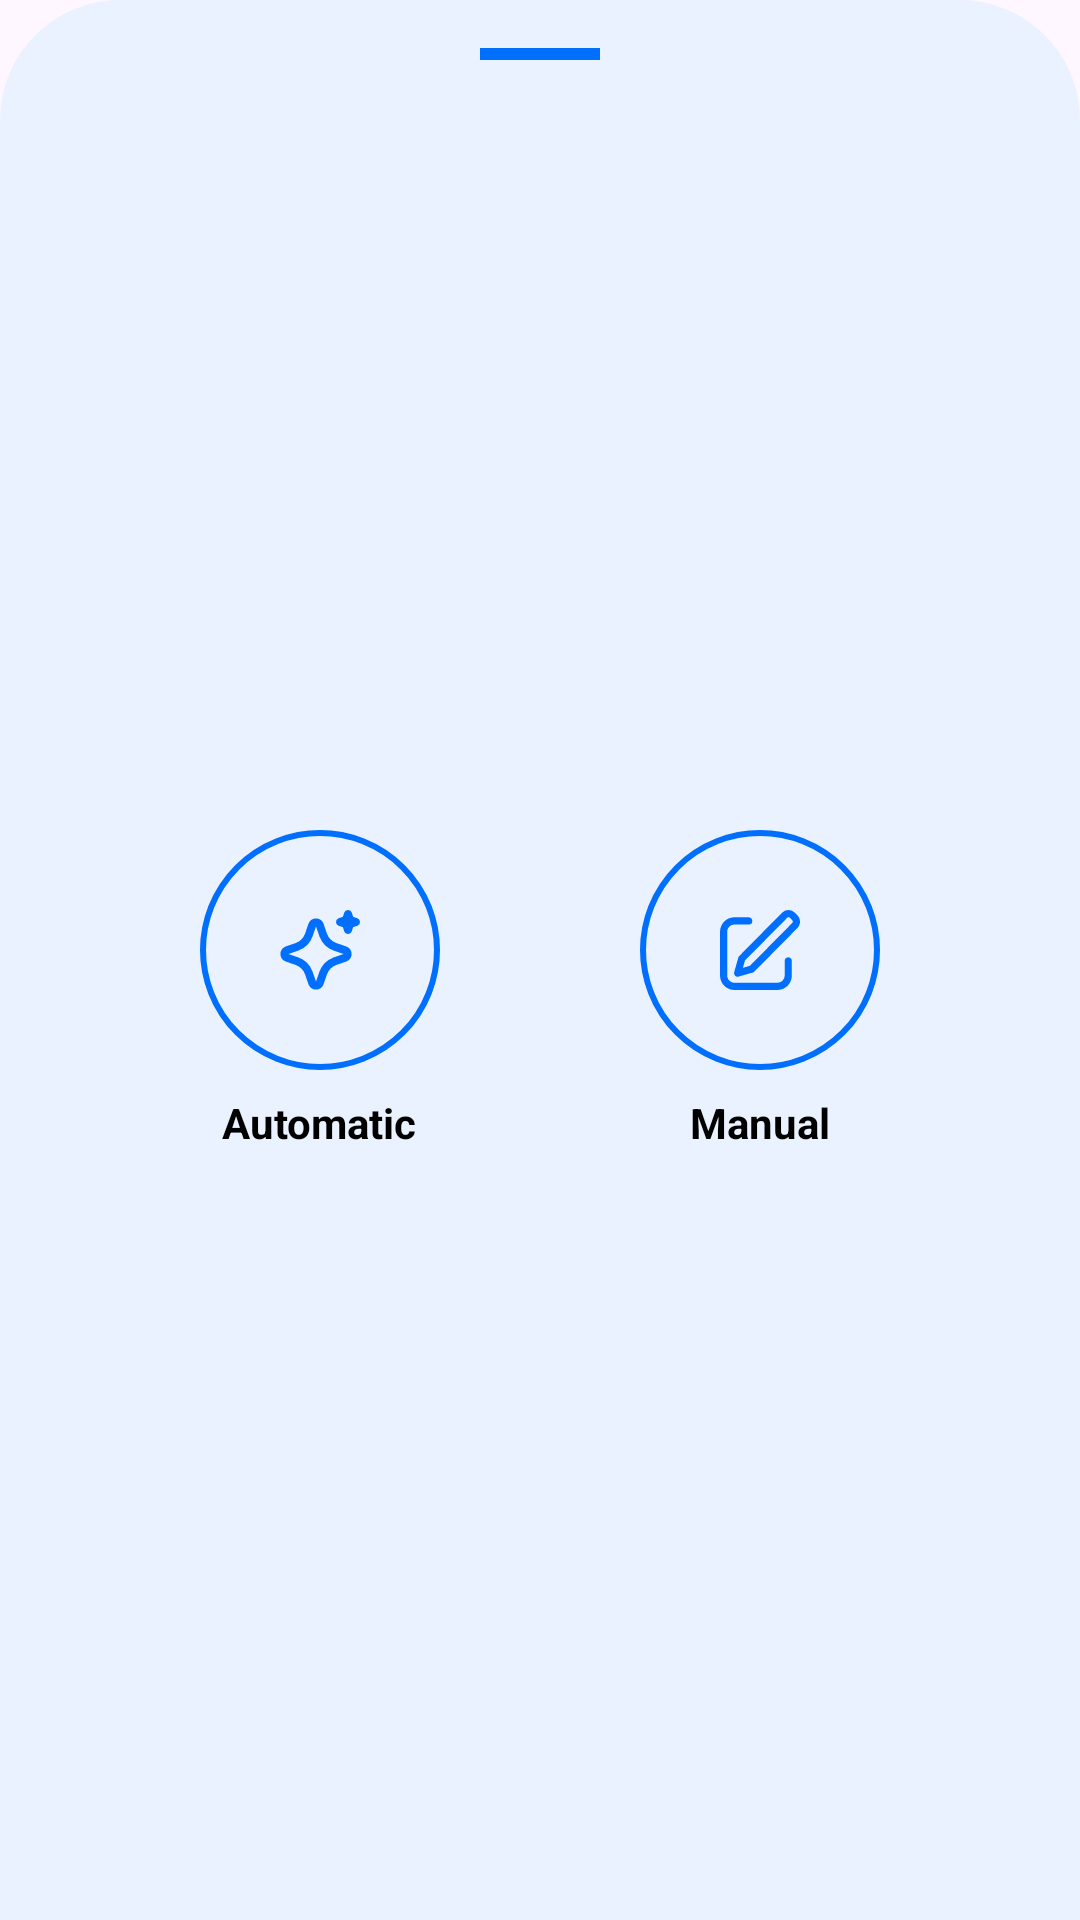

Where icons sit on this 1080*1920 app screen, as (x1, y1, x2, y2):
ai sparkle: (280, 910, 360, 990)
